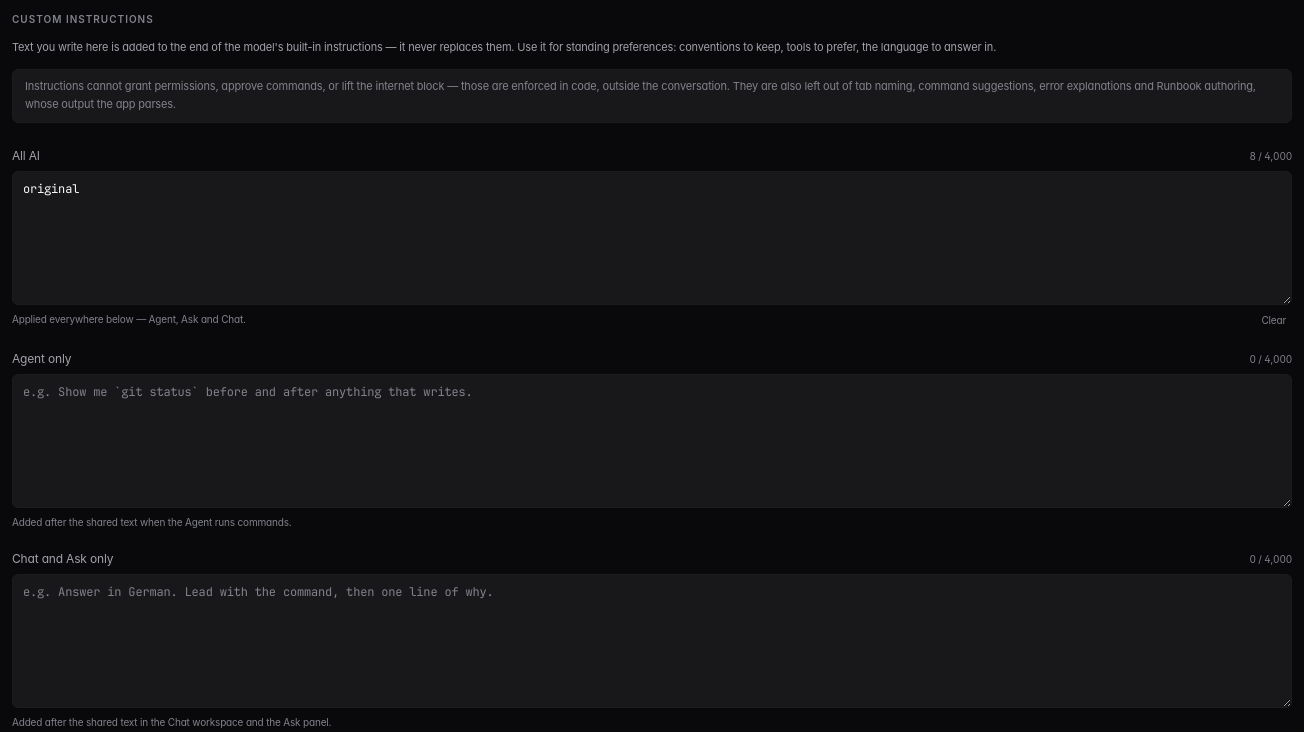
it: InstructionsSection › reverts the draft on Escape without saving
Replace the text in the text box named "All AI" with "typo": (652, 238) left=13, top=172, right=1291, bottom=304
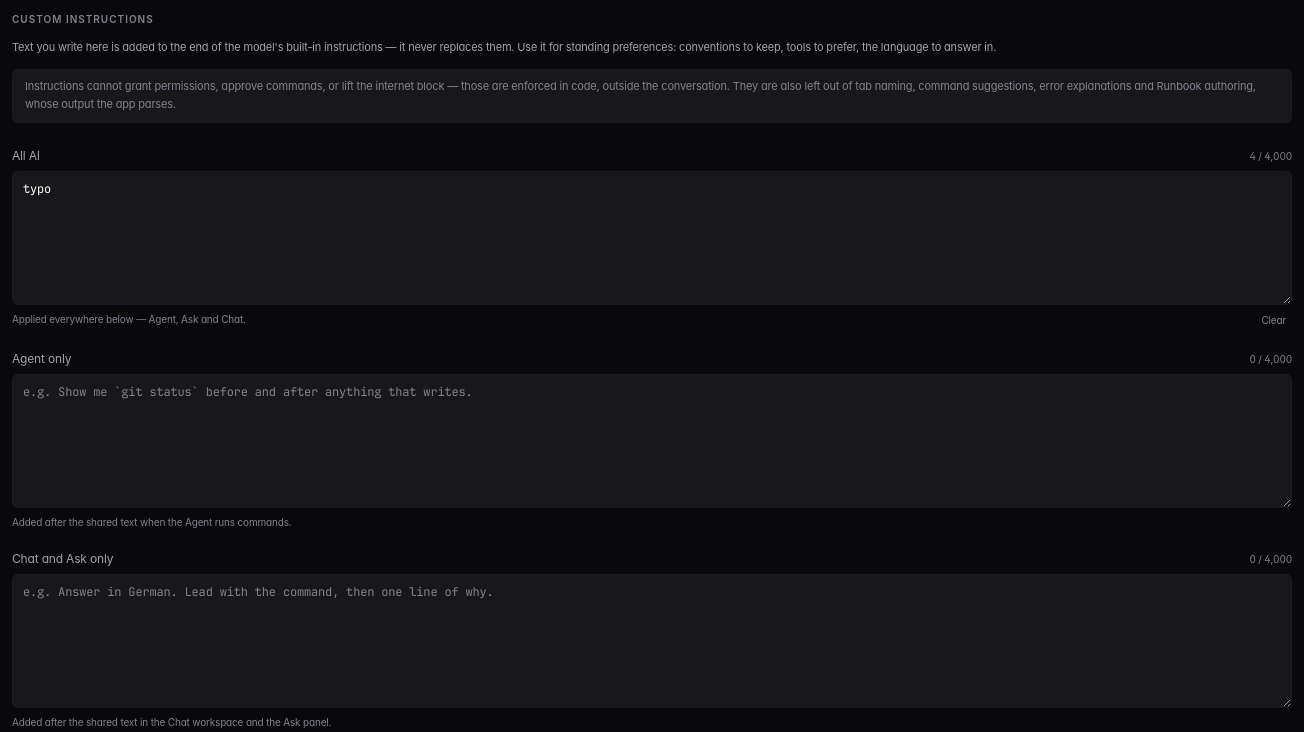
Press Escape in the text box named "All AI", box left=13, top=172, right=1291, bottom=304
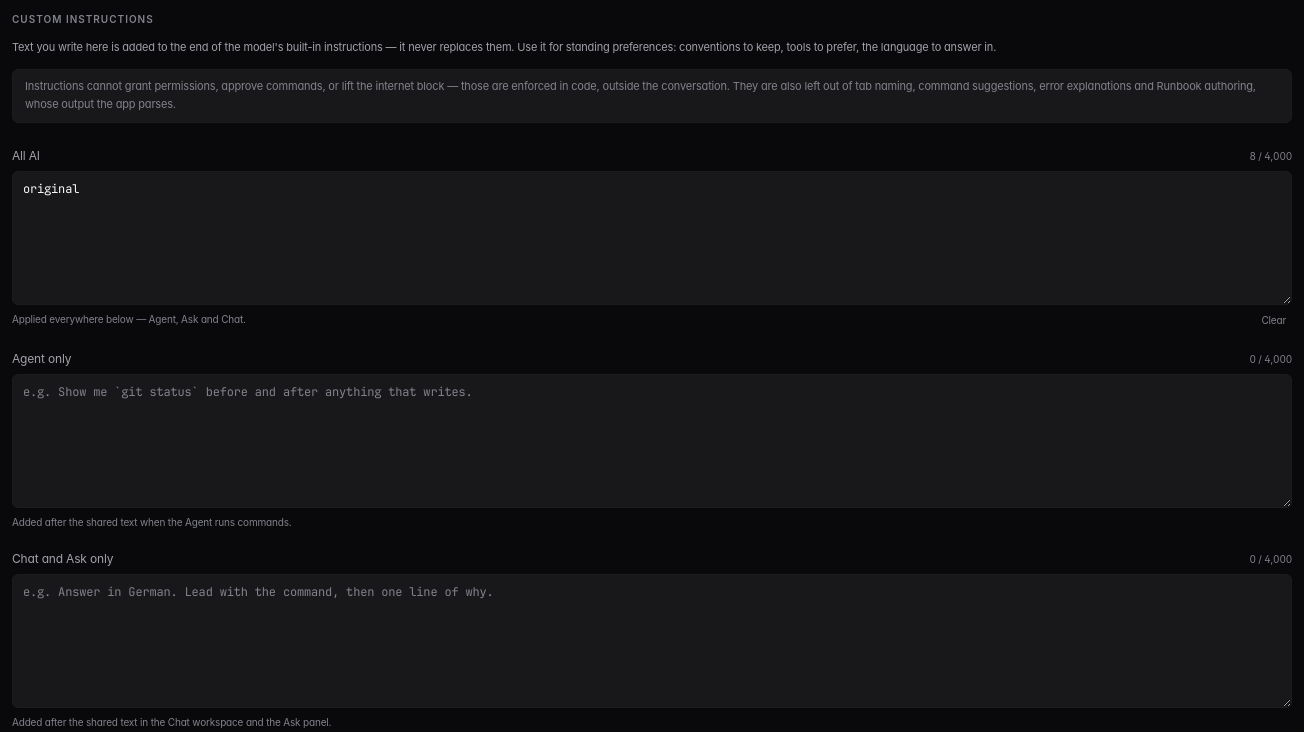
Check: the text box named "All AI" holds "original", box left=13, top=172, right=1291, bottom=304
